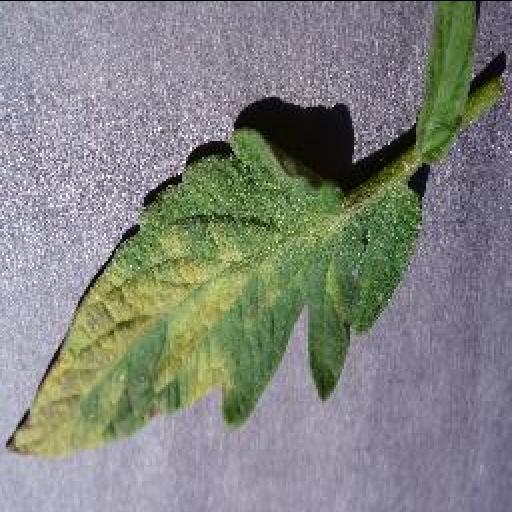disease_tomato: (8, 125, 420, 453)
